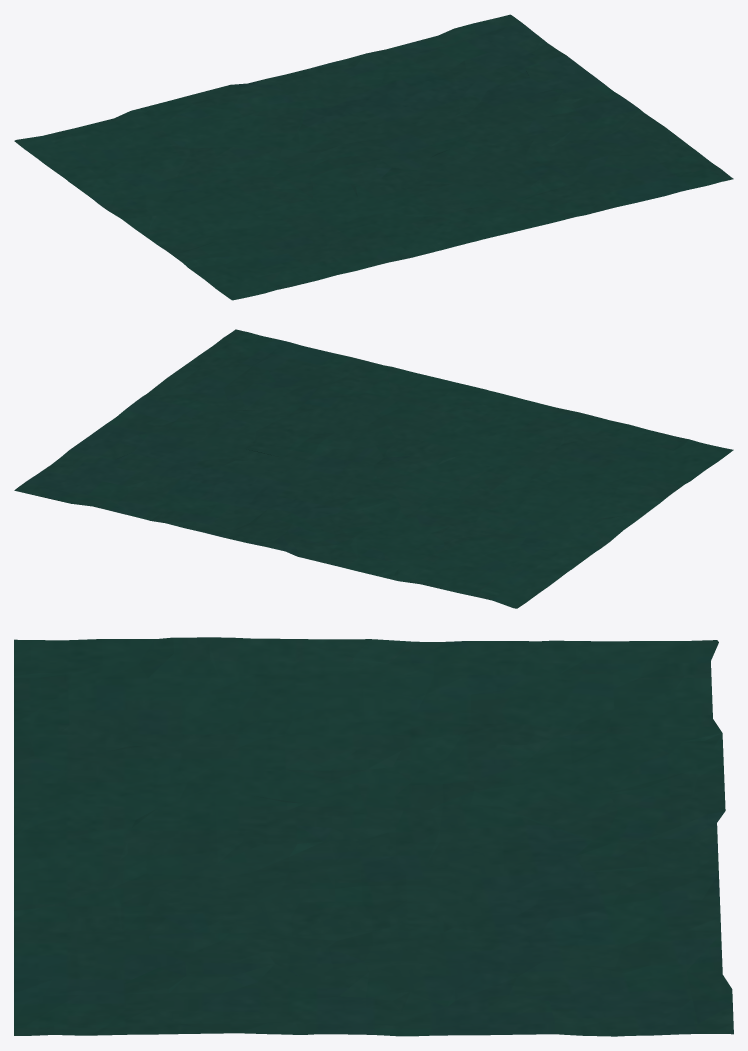
3 renders of one model, top to bottom at view 1: azimuth 30°, elevation 25°; view 2: azimuth 150°, elevation 25°; view 3: azimuth 270°, elevation 25°, orthographic. The views are drawn at different scales.
Bounding box in the file's own units: 104 × 0.6622 × 80.54.
2 materials, 2 textured.
